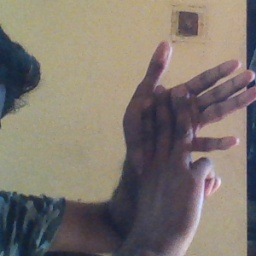M: (109, 38, 256, 241)
